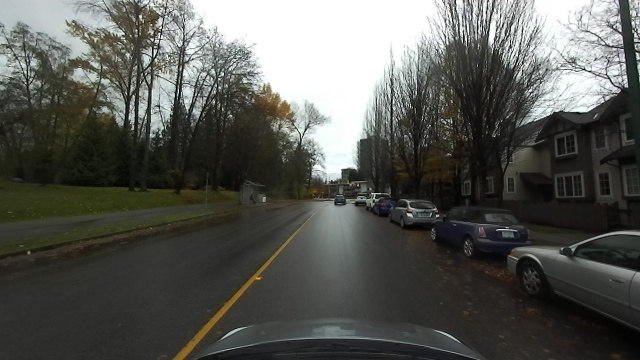car: (507, 226, 640, 339), (429, 208, 530, 261), (388, 199, 438, 229), (372, 198, 393, 217), (352, 193, 367, 206), (331, 193, 346, 205)
